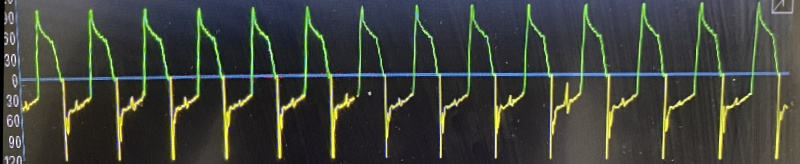hydrop_peepi: (6, 3, 798, 162)
